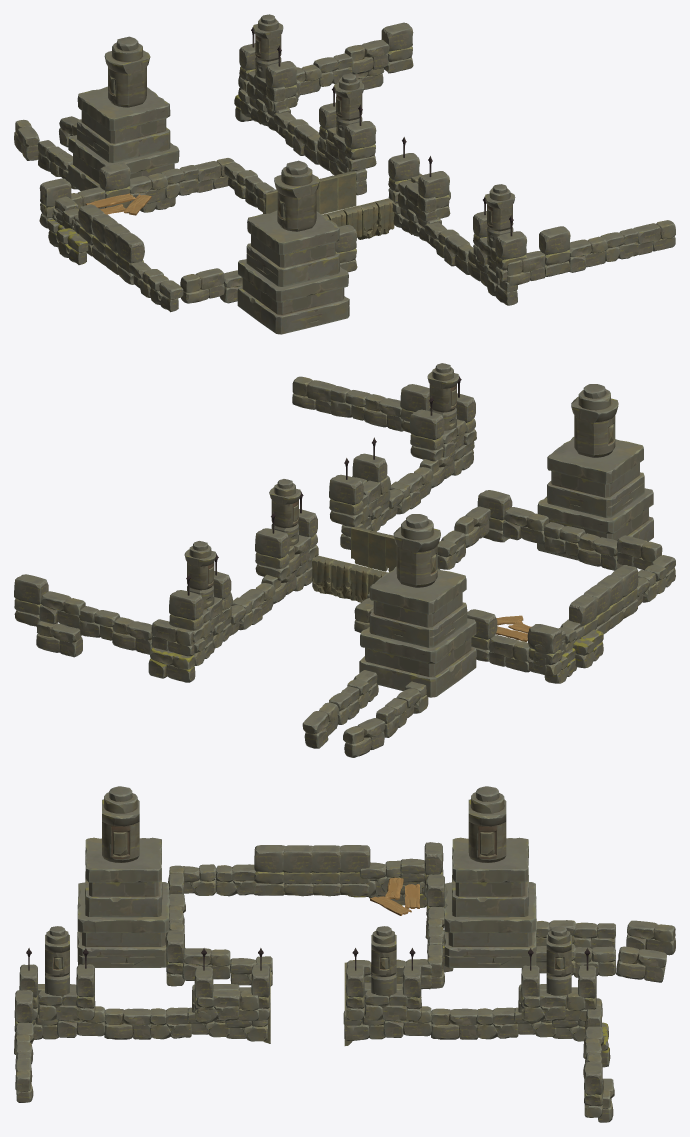
File: Fortress_Part1_Blender.fbx
3 renders of one model, top to bottom at view 1: azimuth 30°, elevation 25°; view 2: azimuth 150°, elevation 25°; view 3: azimuth 270°, elevation 25°, orthographic. The views are drawn at different scales.
Visible parts, largest first — view 1: bridgeFlatStone1_1_50; view 2: bridgeFlatStone1_1_50; view 3: bridgeFlatStone1_1_50.
Boxes of the visible parts, x1,y1,x2,y2 form: bridgeFlatStone1_1_50: (14,14,675,334); bridgeFlatStone1_1_50: (14,363,675,757); bridgeFlatStone1_1_50: (14,786,675,1122).
Bounding box in the file's own units: 2963 × 1045 × 3497.
